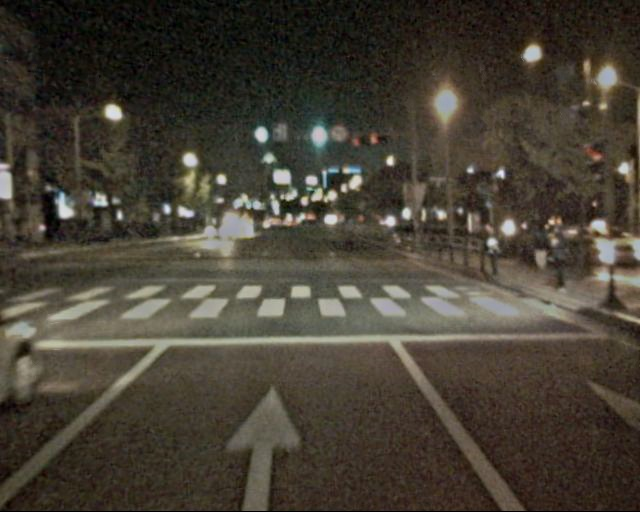person: (541, 222, 573, 292), (477, 221, 505, 288), (524, 220, 552, 279)
